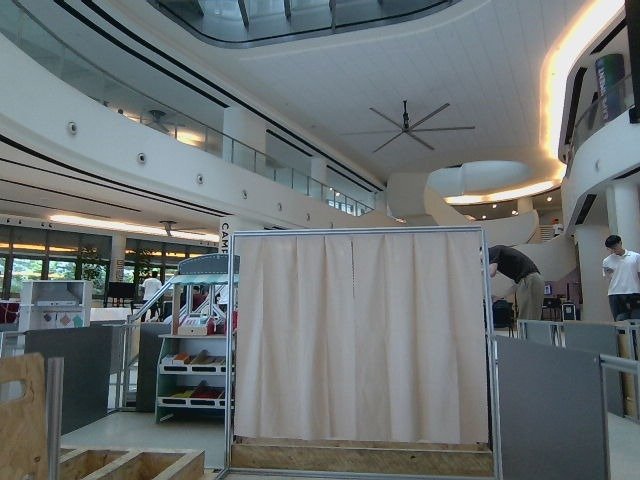curtain: (234, 223, 490, 437)
